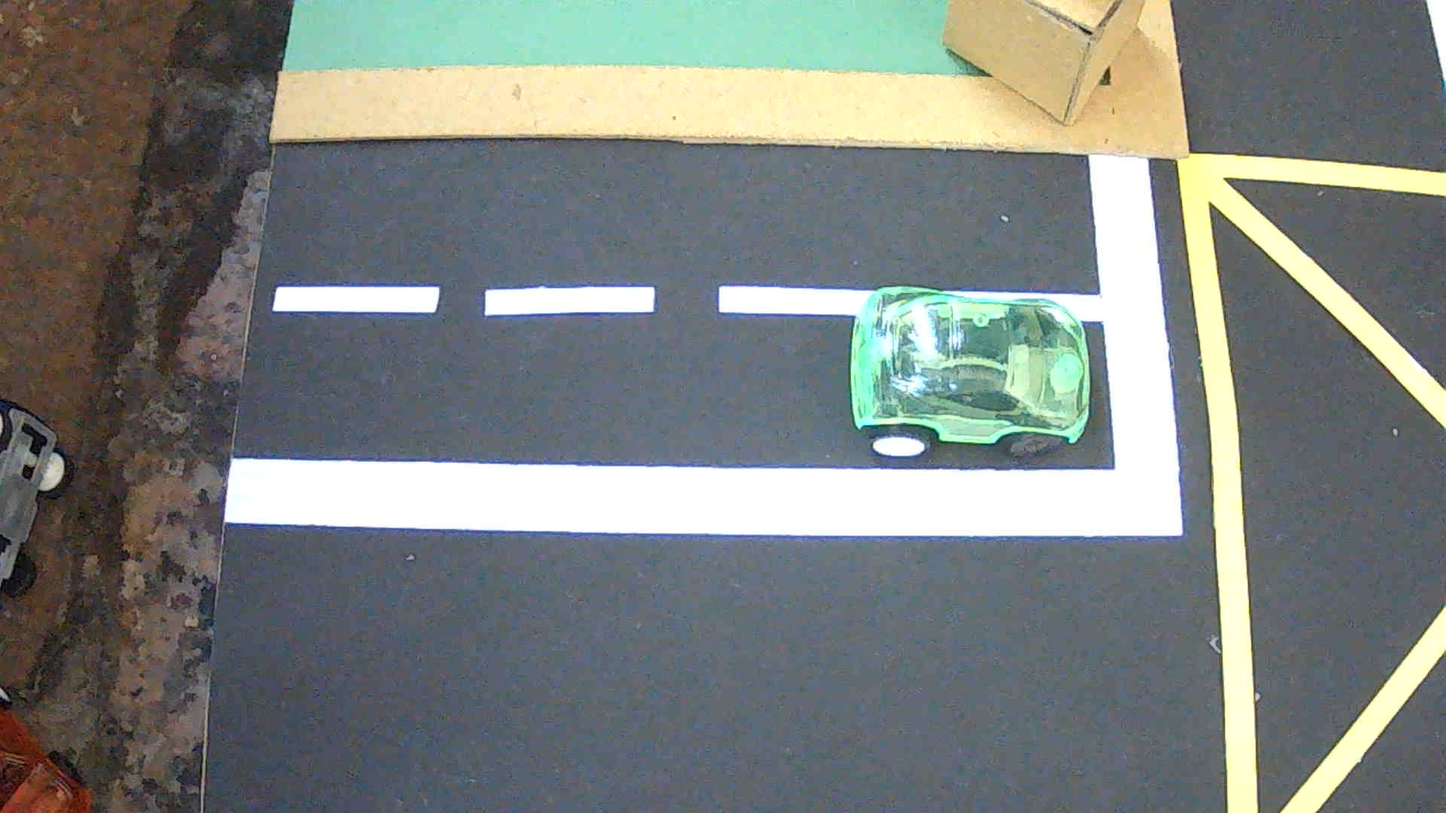Mobil hijau: (850, 286, 1090, 457)
